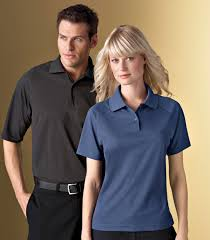C_polo shirt: (80, 88, 195, 226), (5, 57, 95, 184)
